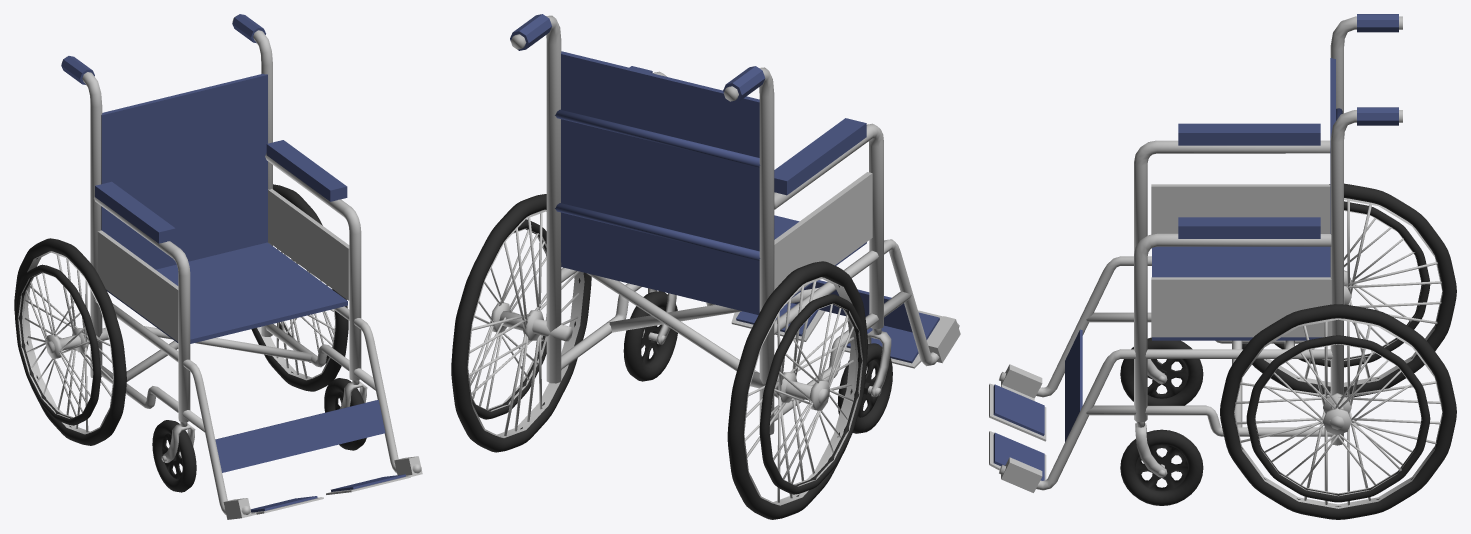
The model's file is wheelchair.glb.
The picture shows the model from 3 angles, left to right: view 1: azimuth 30°, elevation 25°; view 2: azimuth 150°, elevation 25°; view 3: azimuth 270°, elevation 25°; orthographic projection. The views are drawn at different scales.
Visible parts, largest first — view 1: Plane.014; view 2: Plane.014; view 3: Plane.014.
Boxes of the visible parts, box(x1,y1,x2,y2) form: Plane.014: box(14, 14, 422, 519); Plane.014: box(451, 14, 960, 519); Plane.014: box(989, 14, 1456, 519).
Bounding box in the file's own units: 1.32 × 1.7 × 1.81.
